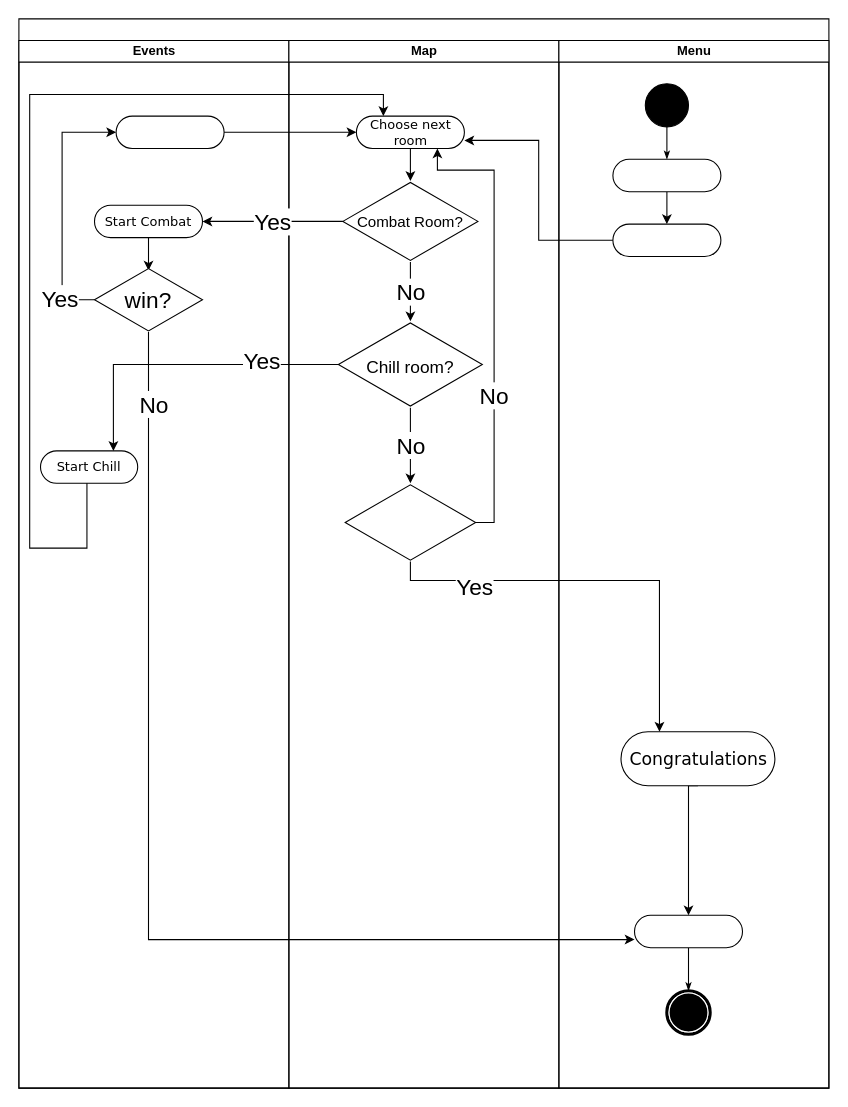
Image size: 848x1107. Some labels were removed from this diagram. Here are the shapes that lost their labels. From the top down, the centre of each, then its label:
At (x=169, y=131): "Reward".
At (x=666, y=175): "New Game".
At (x=666, y=239): "CreateMap".
At (x=410, y=522): "End room?".
At (x=687, y=931): "Exit".
